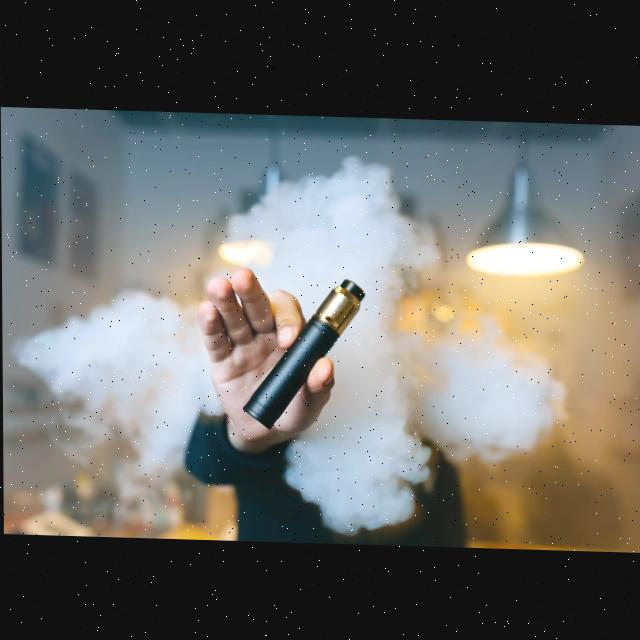vape: (239, 272, 367, 432)
